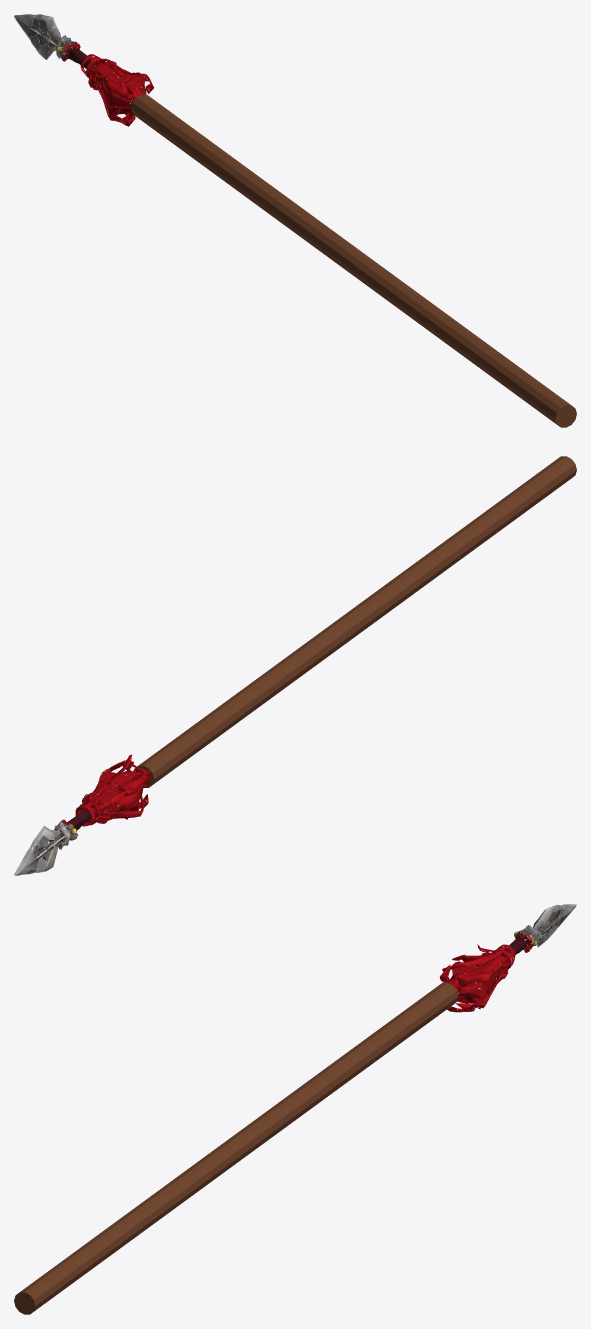
3 renders of one model, top to bottom at view 1: azimuth 30°, elevation 25°; view 2: azimuth 150°, elevation 25°; view 3: azimuth 330°, elevation 25°, orthographic.
Visible parts, largest first — view 1: Cylinder, W005; view 2: Cylinder, W005; view 3: Cylinder, W005.
Boxes of the visible parts, x1,y1,x2,y2 form: Cylinder: (131,94,576,427); W005: (14,14,153,126); Cylinder: (134,456,576,787); W005: (14,754,150,875); Cylinder: (14,982,458,1314); W005: (437,904,576,1016).
Size of the model in its own units: 0.0936 by 0.109 by 1.96.
2 materials, 1 textured.
